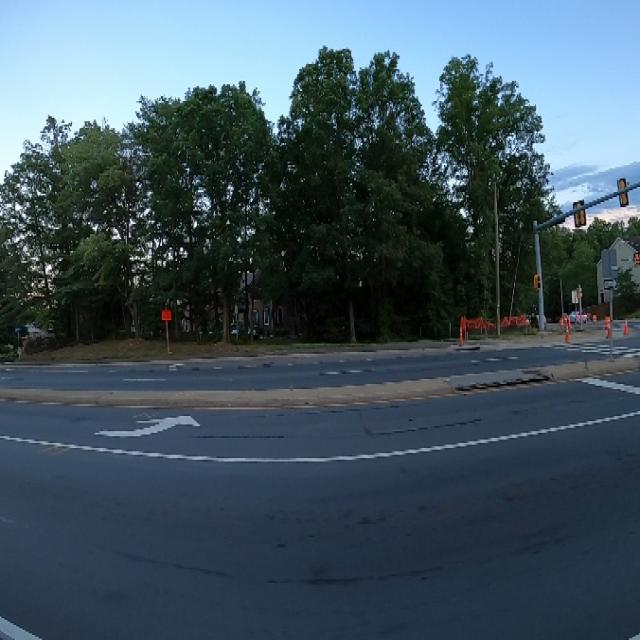cars: (568, 304, 588, 328)
